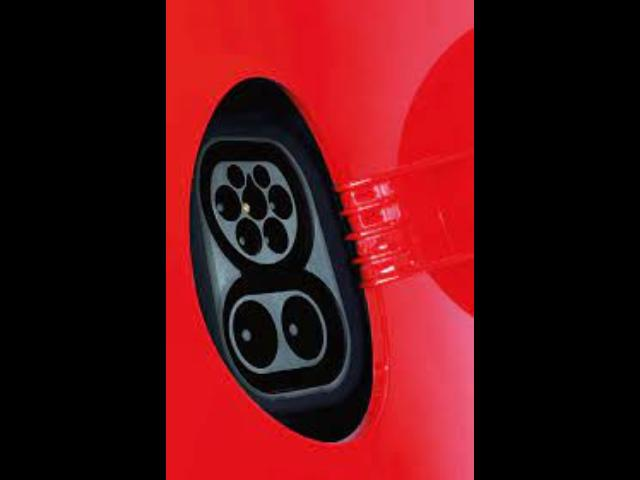inlet: (211, 162, 298, 265)
inlet-above-left: (227, 163, 246, 189)
inlet-above-right: (252, 165, 270, 188)
inlet-below-left: (236, 218, 262, 255)
inlet-below-right: (262, 217, 288, 254)
inlet-circle: (242, 186, 267, 220)
inlet-circle-left: (215, 186, 241, 221)
inlet-circle-right: (268, 185, 294, 220)
inlet-minus: (281, 296, 324, 361)
inlet-plus: (234, 300, 278, 368)
